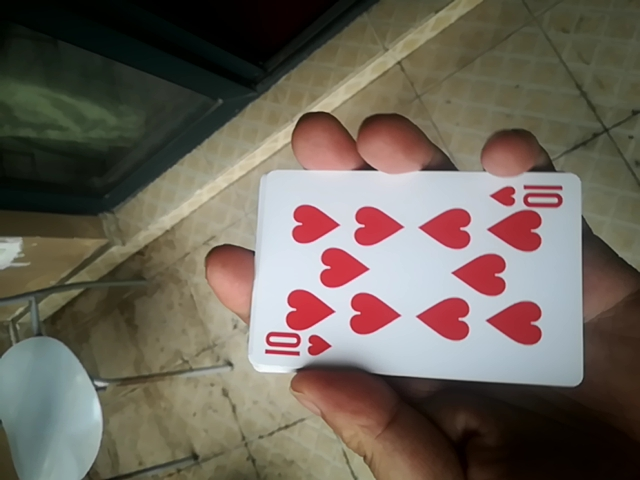hx 10: (242, 161, 585, 388)
